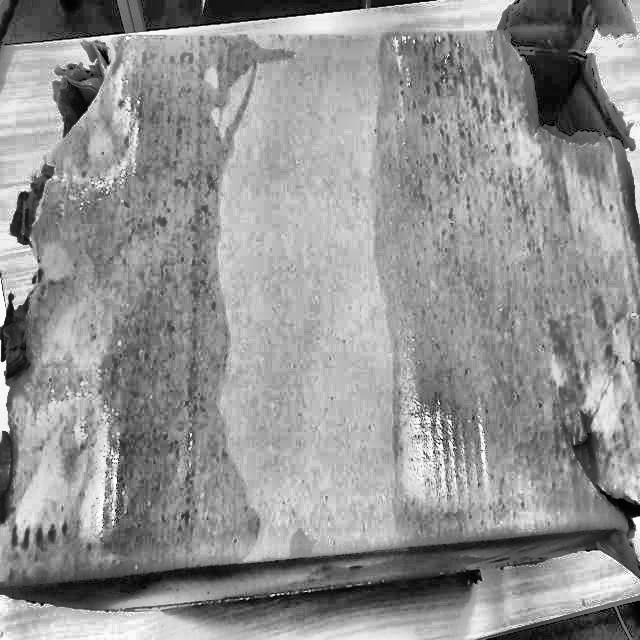box: (0, 0, 639, 627)
hole: (497, 13, 628, 178), (59, 35, 123, 165)
wet: (3, 35, 301, 581), (395, 31, 635, 535)
